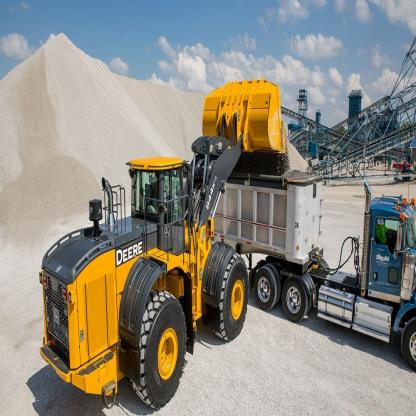bull_dozer/loader/grader: (32, 72, 294, 405)
dump_truck: (298, 140, 416, 384)
